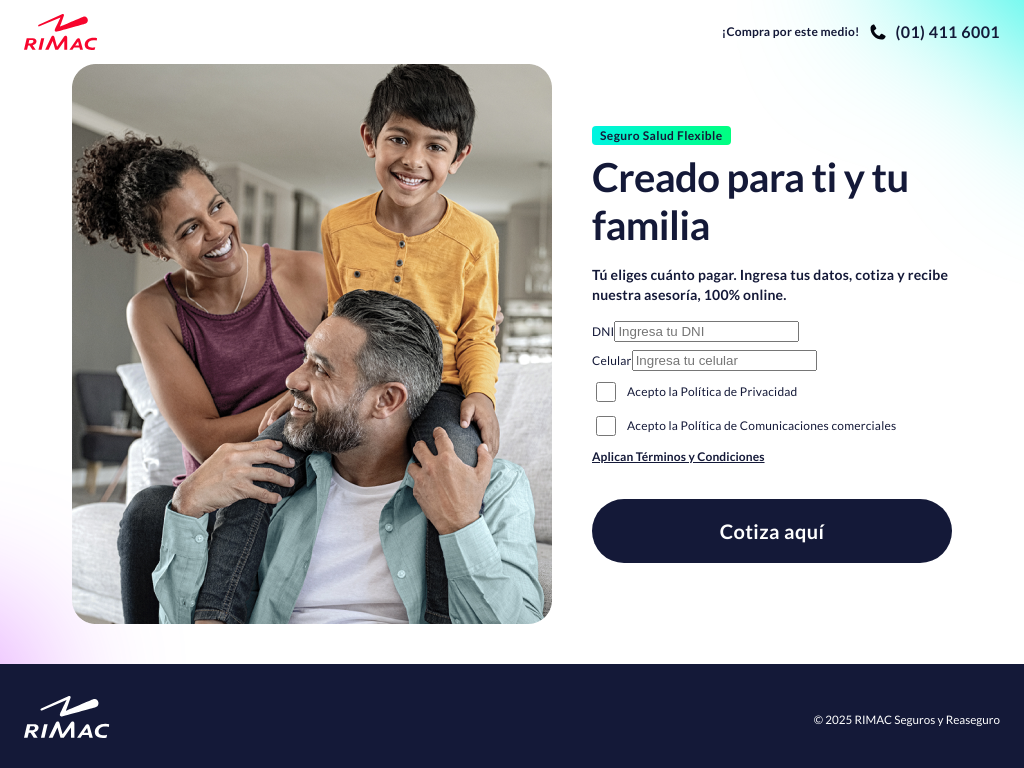
Home Form › should show error for invalid DNI and phone
The width and height of the screenshot is (1024, 768).
# Si hay más de un input con el mismo placeholder, selecciona el primero
In the field with placeholder "Ingresa tu DNI": point(707, 332) x1=614 y1=321 x2=799 y2=342, type "123"
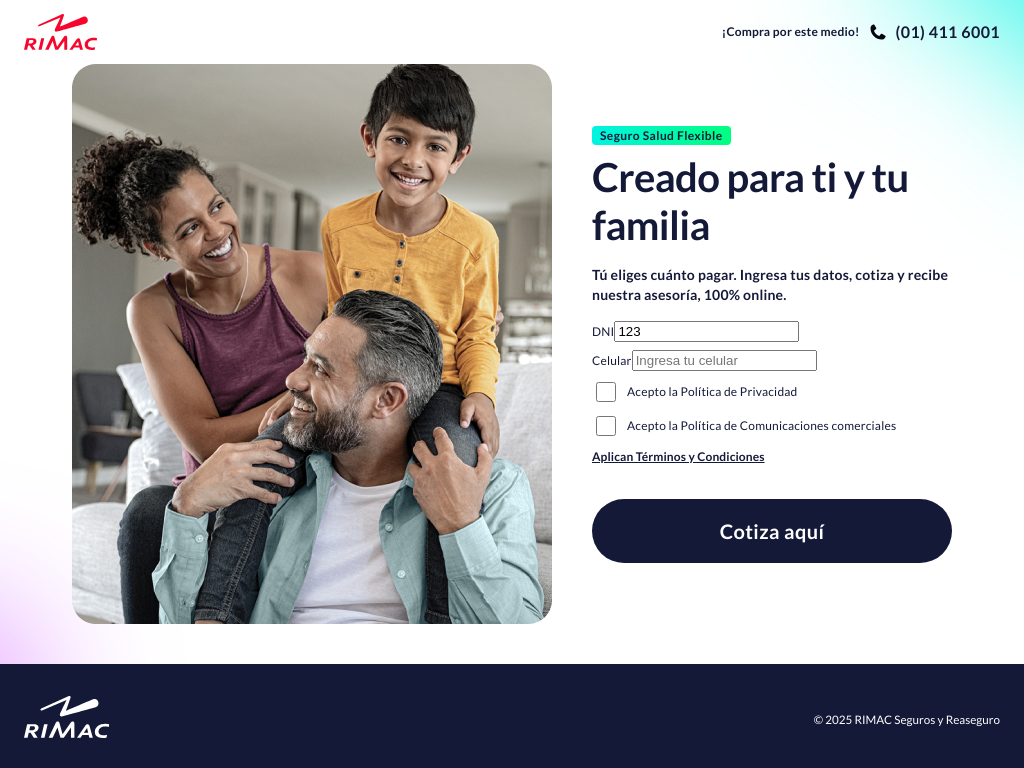
In the field with placeholder "Ingresa tu celular": point(724, 360) x1=632 y1=350 x2=817 y2=371, type "456"
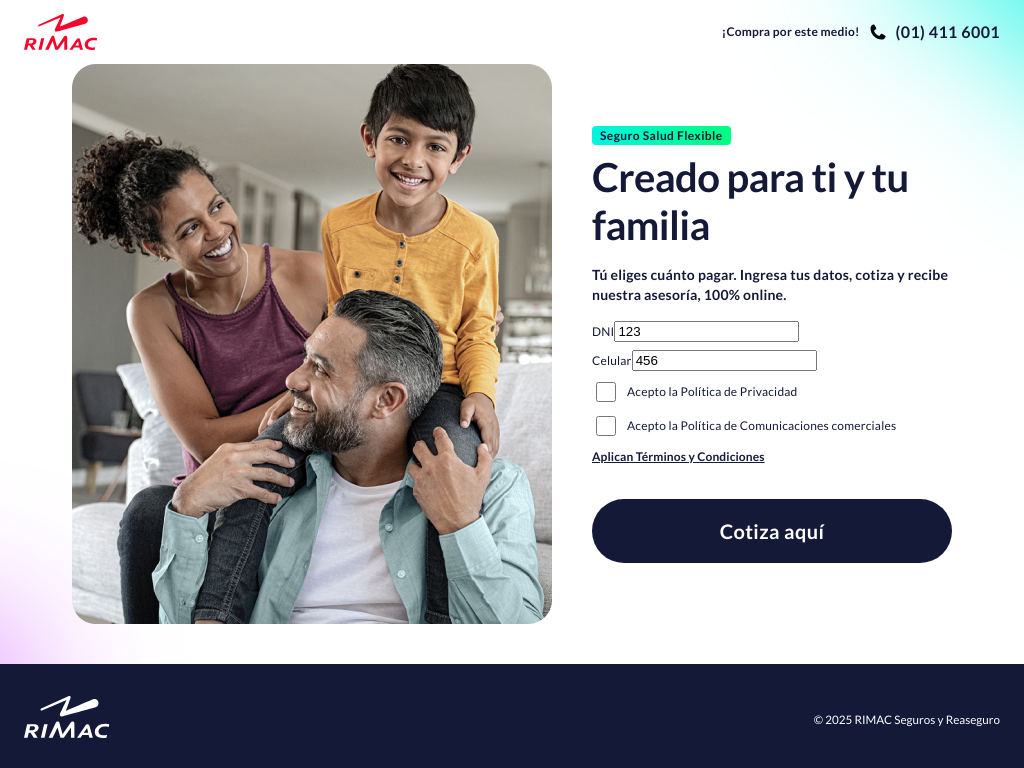
Click the button "Cotiza aquí": point(772, 531) x1=592 y1=499 x2=952 y2=563
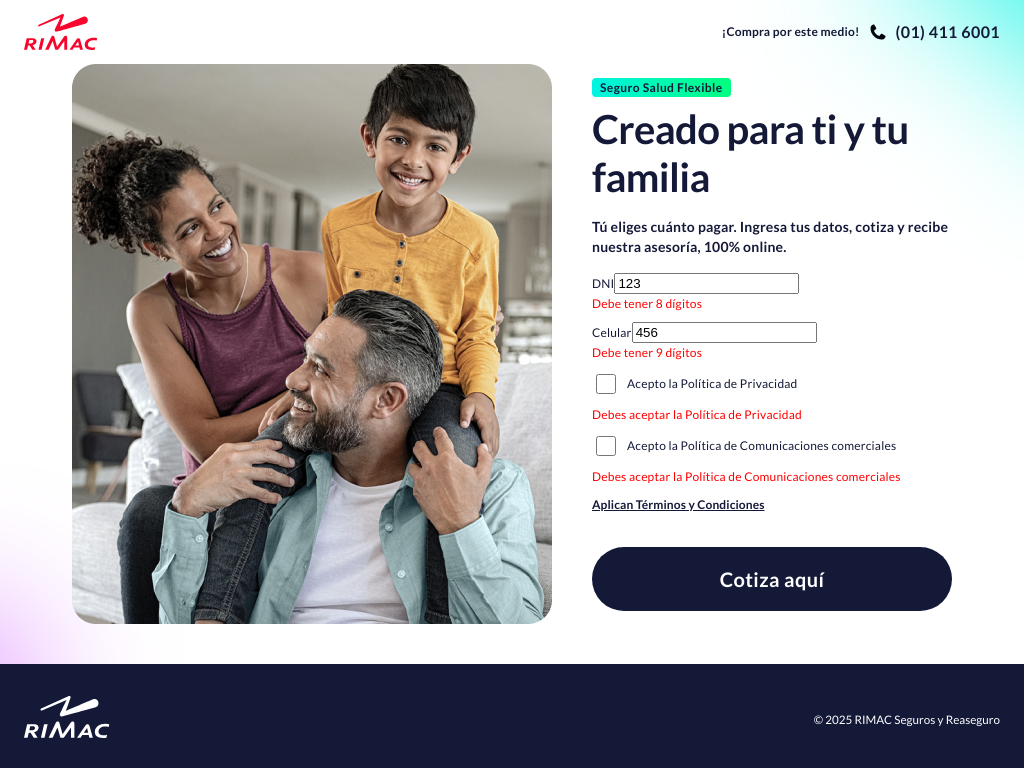
Result: the text "Debe tener 8 dígitos" is shown at x1=592 y1=296 x2=702 y2=311
Result: the text "Debe tener 9 dígitos" is shown at x1=592 y1=345 x2=702 y2=360
